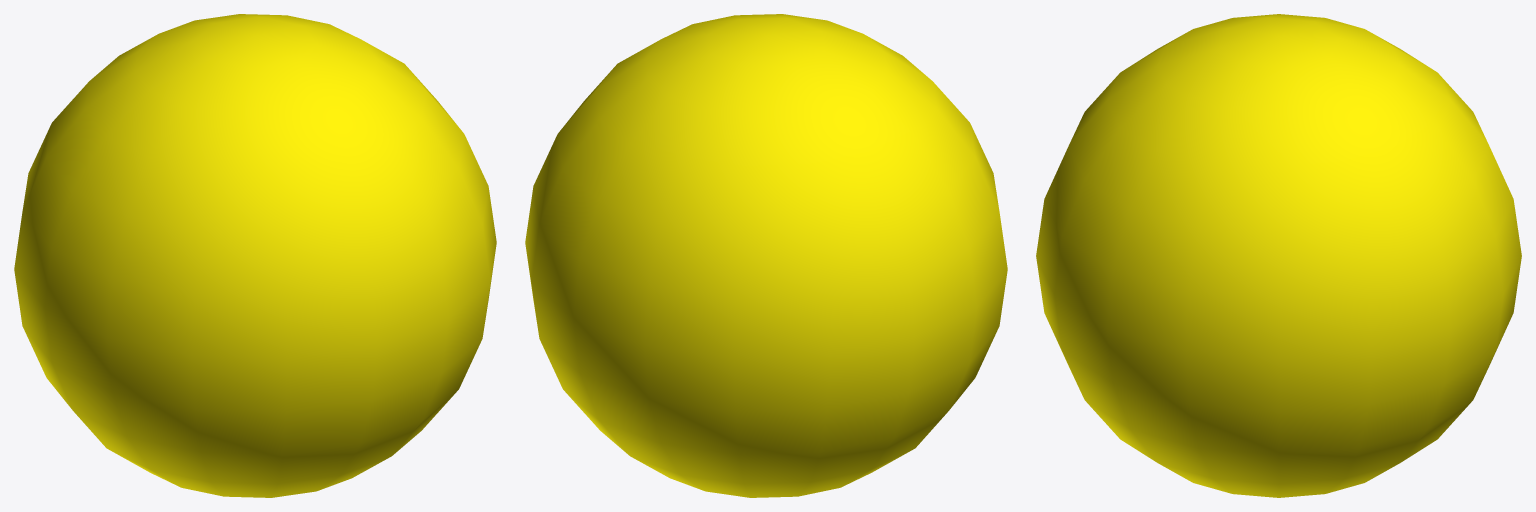
The model's file is candy_010.glb.
3 renders of one model, left to right at view 1: azimuth 30°, elevation 25°; view 2: azimuth 150°, elevation 25°; view 3: azimuth 270°, elevation 25°, orthographic.
Parts seen in each view (by area): view 1: candy_010; view 2: candy_010; view 3: candy_010.
Part boxes in pixels (x1=…): candy_010: x1=14, y1=14, x2=496, y2=497; candy_010: x1=525, y1=14, x2=1007, y2=497; candy_010: x1=1036, y1=14, x2=1521, y2=497.
Size of the model in its own units: 1.22 by 1.22 by 1.22.
1 material, 1 textured.
